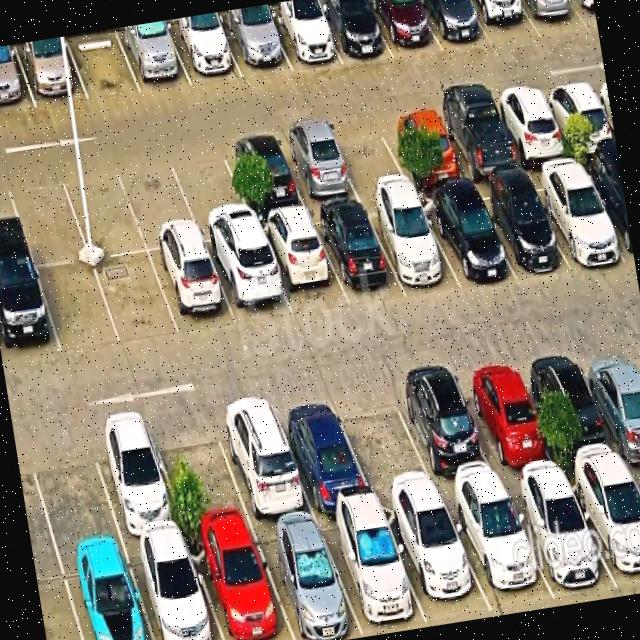empty: (148, 409, 252, 535), (331, 380, 439, 501), (24, 424, 122, 555), (167, 142, 257, 243), (59, 161, 147, 259), (4, 168, 89, 266), (117, 153, 202, 251), (94, 252, 180, 346), (37, 261, 121, 355), (325, 118, 410, 196), (66, 29, 141, 100)
occupied: (389, 367, 503, 496), (317, 506, 428, 637), (504, 477, 618, 600), (443, 486, 555, 611), (251, 518, 364, 640), (381, 499, 493, 622), (453, 357, 561, 484), (211, 393, 315, 524), (271, 390, 375, 513), (524, 347, 625, 473), (86, 416, 186, 543), (187, 527, 294, 640), (526, 164, 628, 268), (125, 537, 223, 640), (469, 179, 569, 279), (417, 189, 517, 289), (256, 212, 349, 318), (566, 463, 640, 595), (311, 203, 405, 305), (364, 197, 462, 294), (60, 546, 153, 640), (149, 244, 238, 336), (205, 236, 293, 326), (576, 340, 640, 462), (220, 134, 307, 218), (433, 99, 522, 181), (276, 126, 360, 206), (380, 109, 466, 185), (490, 88, 573, 166), (0, 264, 61, 365), (540, 80, 617, 156), (580, 159, 635, 263), (14, 36, 88, 108), (116, 23, 192, 93), (165, 18, 243, 86), (265, 4, 342, 70), (314, 0, 393, 64), (219, 11, 292, 78), (368, 0, 442, 59), (419, 0, 492, 51), (467, 0, 541, 47), (519, 0, 589, 37), (0, 44, 36, 113), (572, 0, 598, 29)
